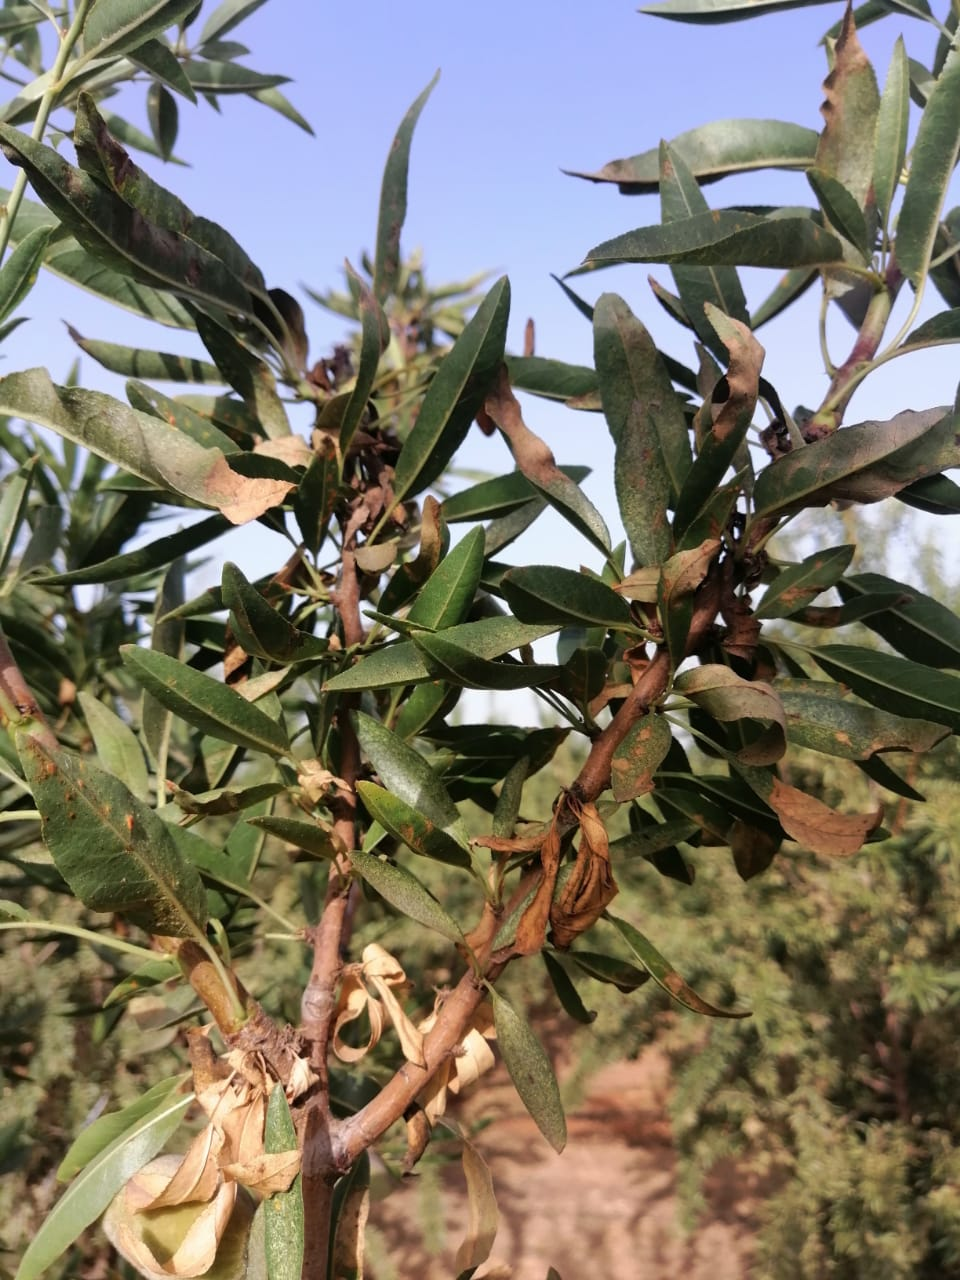scolytes: (468, 637, 653, 971), (290, 940, 438, 1067)
